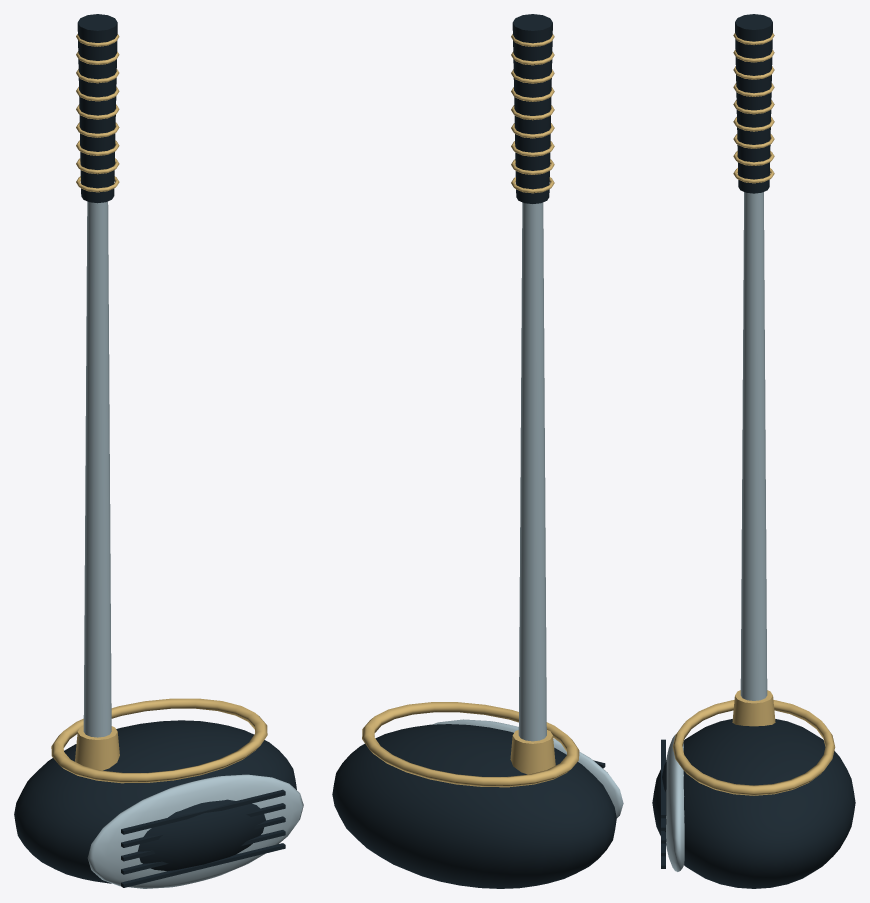
Rendered from driver.glb.
3 renders of one model, left to right at view 1: azimuth 30°, elevation 25°; view 2: azimuth 150°, elevation 25°; view 3: azimuth 270°, elevation 25°, orthographic. The views are drawn at different scales.
Visible parts, largest first — view 1: RE09-carbon-driver; view 2: RE09-carbon-driver; view 3: RE09-carbon-driver.
Part boxes in pixels (x1,y1,x2,y2): RE09-carbon-driver: [14, 14, 303, 888]; RE09-carbon-driver: [332, 14, 623, 888]; RE09-carbon-driver: [652, 14, 855, 888].
Bounding box in the file's own units: 0.68 × 2.13 × 0.48.
